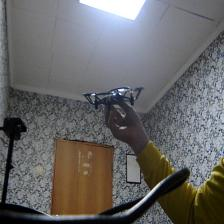drone: (83, 79, 144, 112)
